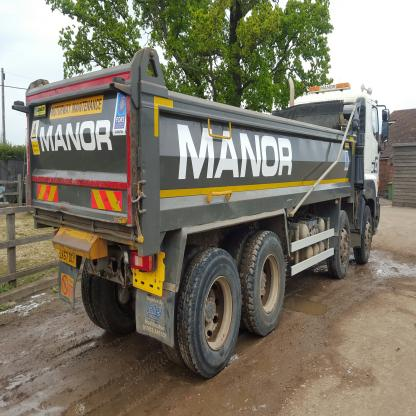dump_truck: (27, 39, 392, 382)
